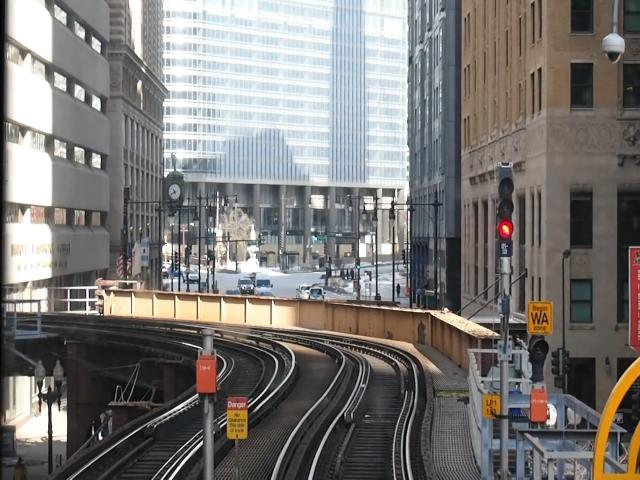signal light: (495, 177, 520, 257)
